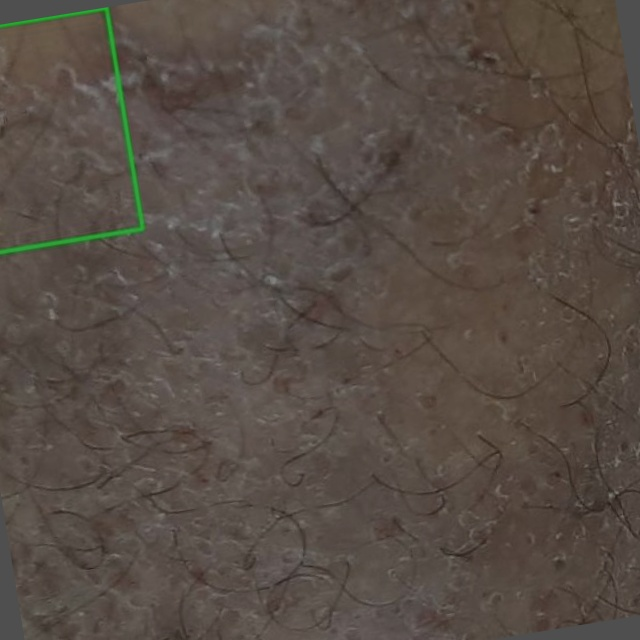Eczema: (0, 7, 142, 252)
